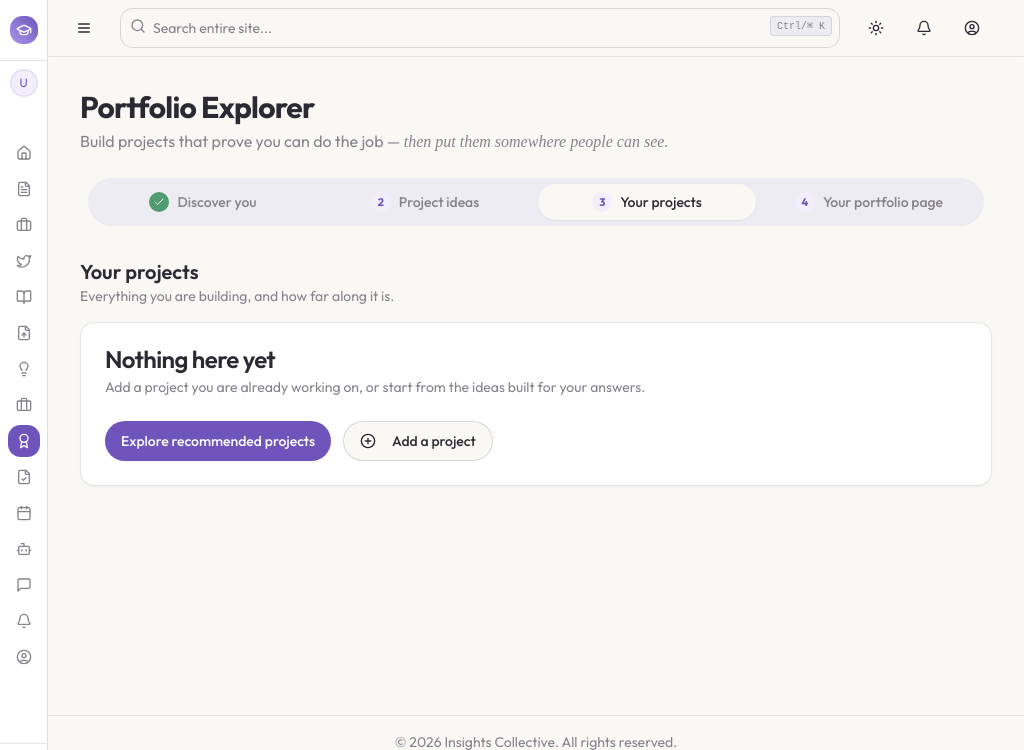
Test: PortfolioExplorer landing tab › keeps the saved answers so the questionnaire is an edit, not a retype
The image size is (1024, 750).
Click the tab "Discover you" at (203, 202), box [94,184,312,220]
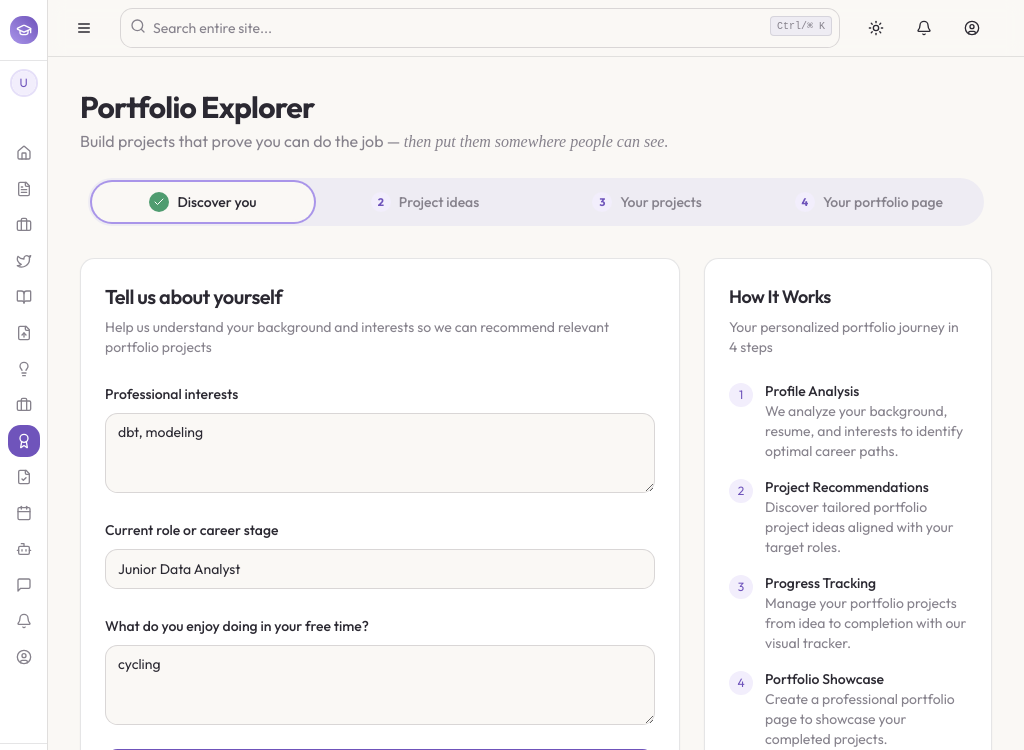
Now the field showing "Junior Data Analyst" is shown, box [105,549,655,589]
